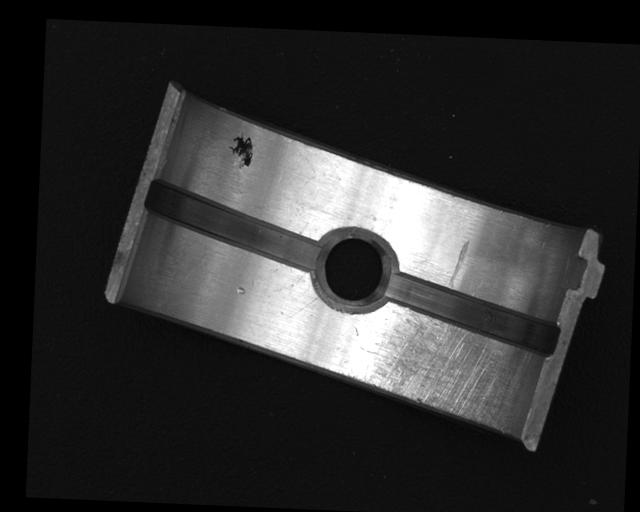blot: (226, 128, 254, 169)
bruise: (233, 286, 248, 295)
gap: (142, 176, 328, 274), (383, 270, 562, 357)
hole: (310, 230, 397, 313)
nick: (448, 238, 472, 290), (288, 294, 322, 320)
scratch: (356, 306, 529, 436)
